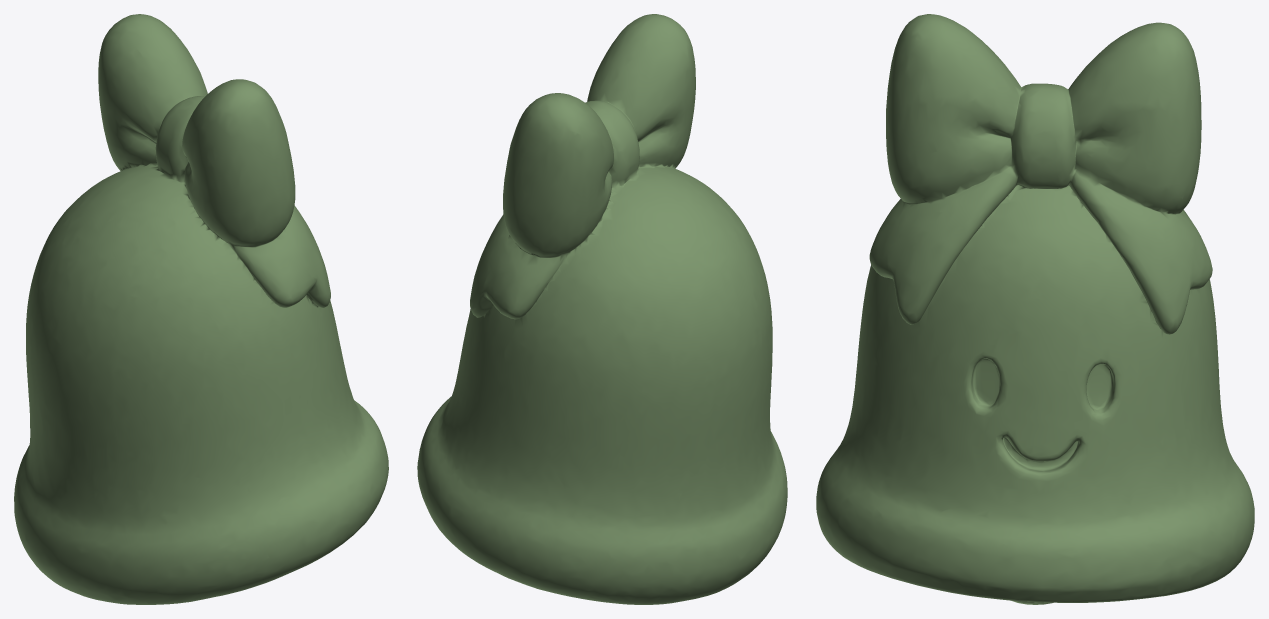
Rendered from christmas-bell.glb.
3 views of the same model, side by side, from view 1: azimuth 30°, elevation 25°; view 2: azimuth 150°, elevation 25°; view 3: azimuth 270°, elevation 25° (orthographic). The views are drawn at different scales.
Parts seen in each view (by area): view 1: tripo_printable_source; view 2: tripo_printable_source; view 3: tripo_printable_source.
Part boxes in pixels (left/top/right/bottom): tripo_printable_source: left=14, top=14, right=388, bottom=604; tripo_printable_source: left=417, top=14, right=787, bottom=604; tripo_printable_source: left=816, top=14, right=1254, bottom=604.
Bounding box in the file's own units: 66.95 × 100 × 70.
